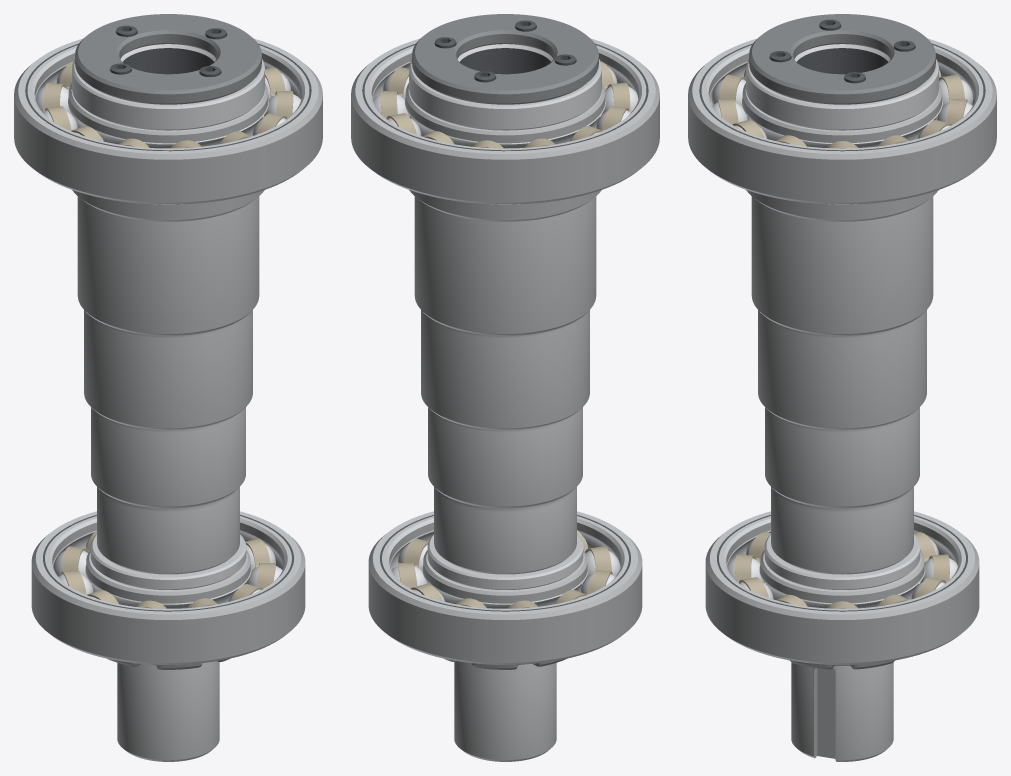
File: shaft.glb
3 renders of one model, left to right at view 1: azimuth 30°, elevation 25°; view 2: azimuth 150°, elevation 25°; view 3: azimuth 270°, elevation 25°, orthographic.
Visible parts, largest first — view 1: Spindle | bored and stepped, Rear bearing | ground outer track, Front bearing | ground outer track, Rear | counterbored retaining flange, Rear | bearing clamp sleeve, Rear bearing | ground inner track, Front bearing | ground inner track, Rear bearing | cage, upper, Front | ground distance sleeve, Front bearing | cage, upper, Rear bearing | polished rolling elements, Front bearing | polished rolling elements (+2 smaller); view 2: Spindle | bored and stepped, Rear bearing | ground outer track, Front bearing | ground outer track, Rear | counterbored retaining flange, Rear | bearing clamp sleeve, Rear bearing | ground inner track, Front bearing | ground inner track, Rear bearing | cage, upper, Front | ground distance sleeve, Front bearing | cage, upper, Rear bearing | polished rolling elements, Front bearing | polished rolling elements (+2 smaller); view 3: Spindle | bored and stepped, Rear bearing | ground outer track, Front bearing | ground outer track, Rear | counterbored retaining flange, Rear | bearing clamp sleeve, Rear bearing | ground inner track, Front bearing | ground inner track, Front | ground distance sleeve, Rear bearing | cage, upper, Front bearing | cage, upper, Rear bearing | polished rolling elements, Front bearing | polished rolling elements (+2 smaller).
Part boxes in pixels (x1,y1,x2,y2): Spindle | bored and stepped: [72, 44, 264, 761]; Rear bearing | ground outer track: [14, 38, 322, 204]; Front bearing | ground outer track: [31, 511, 305, 664]; Rear | counterbored retaining flange: [75, 14, 261, 104]; Rear | bearing clamp sleeve: [72, 59, 264, 130]; Rear bearing | ground inner track: [68, 83, 268, 148]; Front bearing | ground inner track: [85, 550, 251, 608]; Rear bearing | cage, upper: [43, 61, 293, 148]; Front | ground distance sleeve: [90, 534, 246, 589]; Front bearing | cage, upper: [61, 530, 275, 608]; Rear bearing | polished rolling elements: [35, 67, 300, 141]; Front bearing | polished rolling elements: [53, 537, 282, 603]; Spindle | bored and stepped: [409, 44, 601, 761]; Rear bearing | ground outer track: [351, 38, 659, 204]; Front bearing | ground outer track: [368, 511, 642, 664]; Rear | counterbored retaining flange: [412, 14, 598, 104]; Rear | bearing clamp sleeve: [409, 59, 601, 130]; Rear bearing | ground inner track: [405, 83, 605, 148]; Front bearing | ground inner track: [422, 550, 588, 608]; Rear bearing | cage, upper: [380, 61, 630, 148]; Front | ground distance sleeve: [427, 534, 583, 589]; Front bearing | cage, upper: [398, 530, 612, 608]; Rear bearing | polished rolling elements: [373, 67, 638, 141]; Front bearing | polished rolling elements: [391, 537, 620, 603]; Spindle | bored and stepped: [746, 44, 938, 761]; Rear bearing | ground outer track: [688, 38, 996, 204]; Front bearing | ground outer track: [705, 511, 979, 664]; Rear | counterbored retaining flange: [749, 14, 935, 104]; Rear | bearing clamp sleeve: [746, 59, 938, 130]; Rear bearing | ground inner track: [742, 83, 942, 147]; Front bearing | ground inner track: [759, 550, 925, 608]; Front | ground distance sleeve: [764, 534, 920, 589]; Rear bearing | cage, upper: [717, 73, 967, 148]; Front bearing | cage, upper: [735, 532, 949, 608]; Rear bearing | polished rolling elements: [711, 69, 973, 138]; Front bearing | polished rolling elements: [727, 539, 957, 599].
Bounding box in the file's own units: 2.56 × 6.33 × 2.56.
